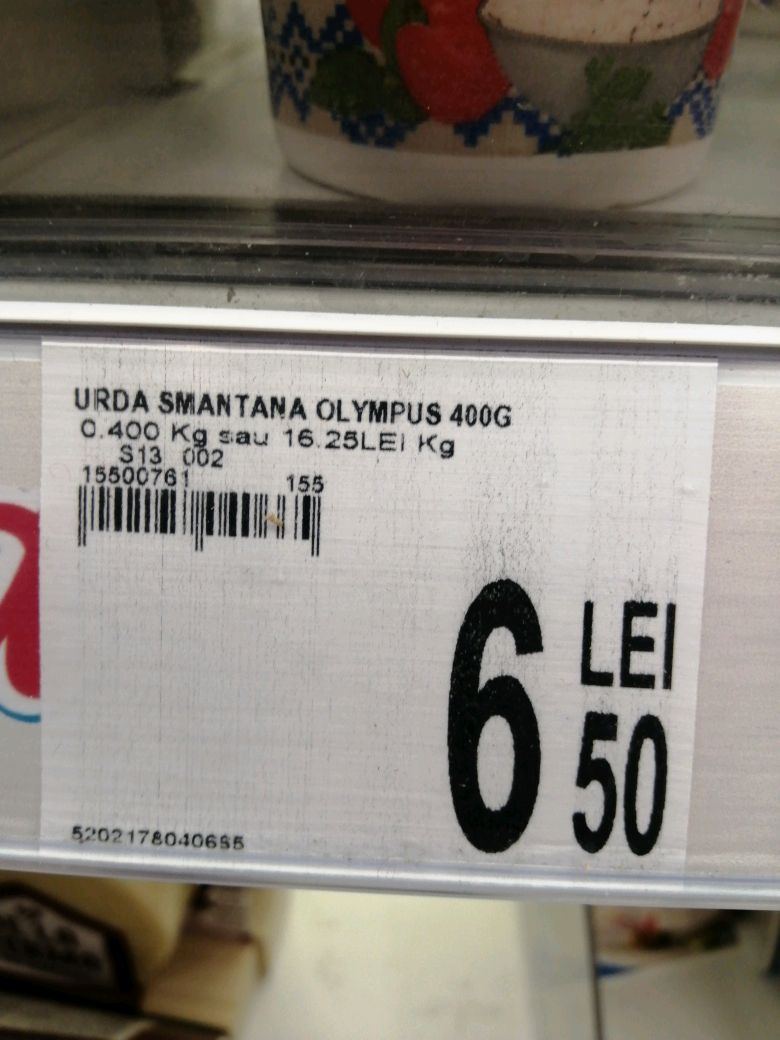price_bani: (561, 700, 677, 863)
price_lei: (434, 571, 555, 858)
price_tag: (21, 334, 725, 900)
product_id: (63, 818, 258, 859)
product_name: (53, 383, 530, 433)
